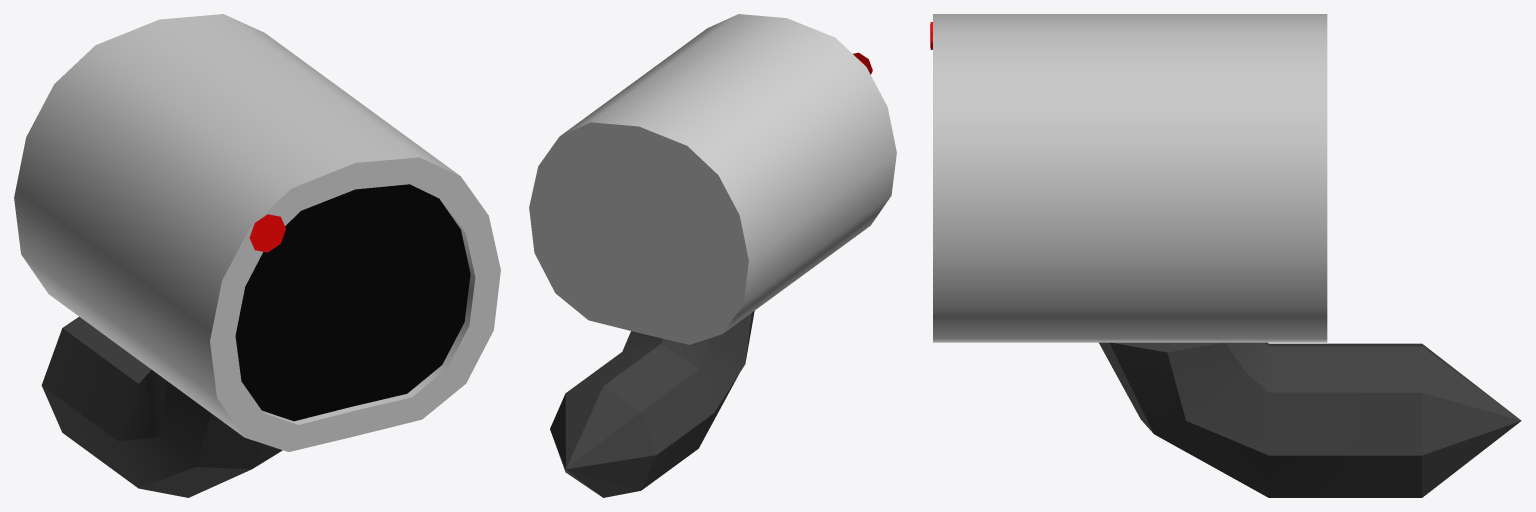
File: Camera.fbx
The picture shows the model from 3 angles, left to right: view 1: azimuth 30°, elevation 25°; view 2: azimuth 150°, elevation 25°; view 3: azimuth 270°, elevation 25°; orthographic projection. The views are drawn at different scales.
Parts seen in each view (by area): view 1: Camera, Camera.001; view 2: Camera; view 3: Camera.
Boxes of the visible parts, <box> form: Camera: <box>14,14,500,497</box>; Camera.001: <box>249,214,285,252</box>; Camera: <box>529,14,896,497</box>; Camera: <box>930,14,1521,497</box>.
Bounding box in the file's own units: 0.1961 × 0.3461 × 0.2944.
Materials: 1 (1 with a texture image).
